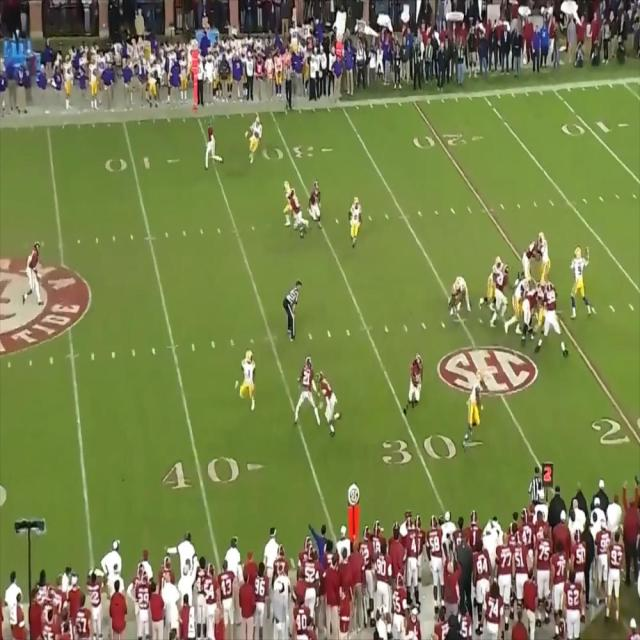db: (299, 354, 317, 420), (321, 373, 339, 437), (27, 243, 43, 303), (310, 181, 324, 229), (209, 120, 219, 164)
lb: (492, 261, 512, 323), (407, 356, 422, 414), (290, 189, 304, 234)
qb: (570, 246, 588, 312)
skill: (467, 376, 485, 440), (244, 350, 257, 410), (283, 182, 297, 232), (351, 195, 364, 244), (248, 118, 260, 162)
